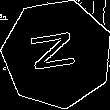N_E: (28, 30, 86, 78)
